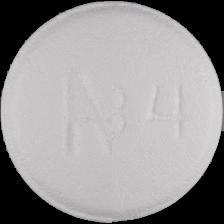0378-3634: (0, 0, 224, 224)
